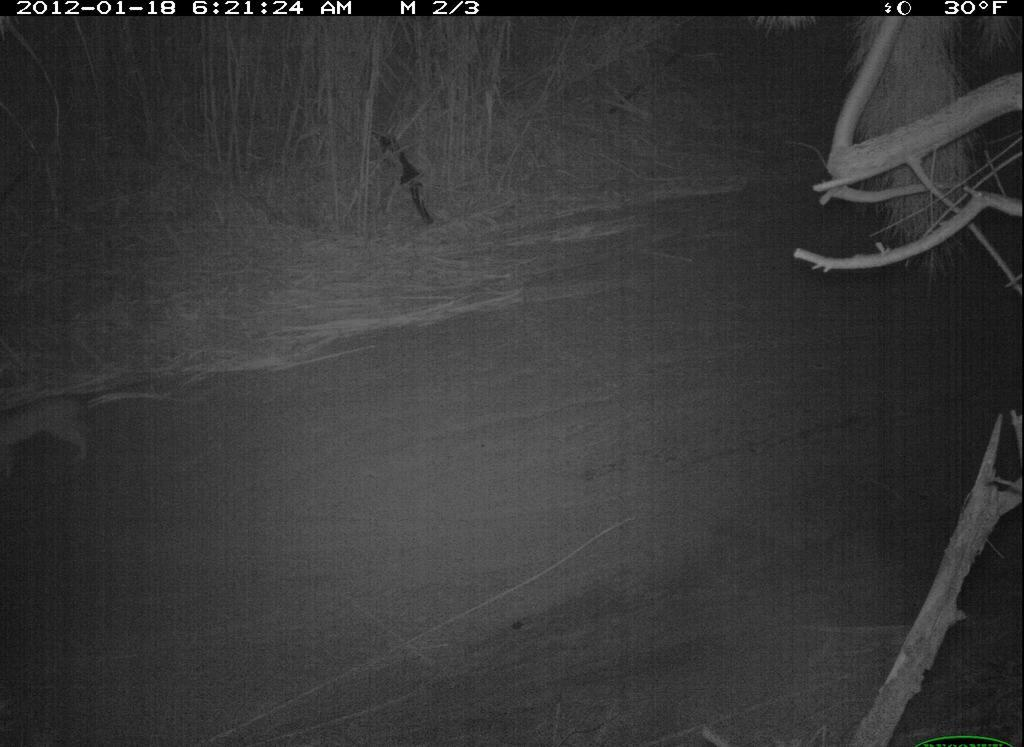bobcat: (4, 379, 136, 475)
